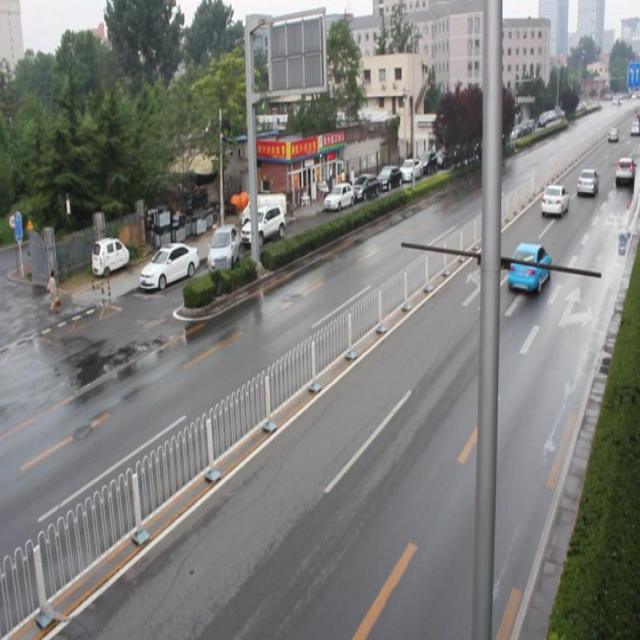car: (504, 239, 548, 293), (539, 181, 568, 216), (575, 166, 595, 195)
